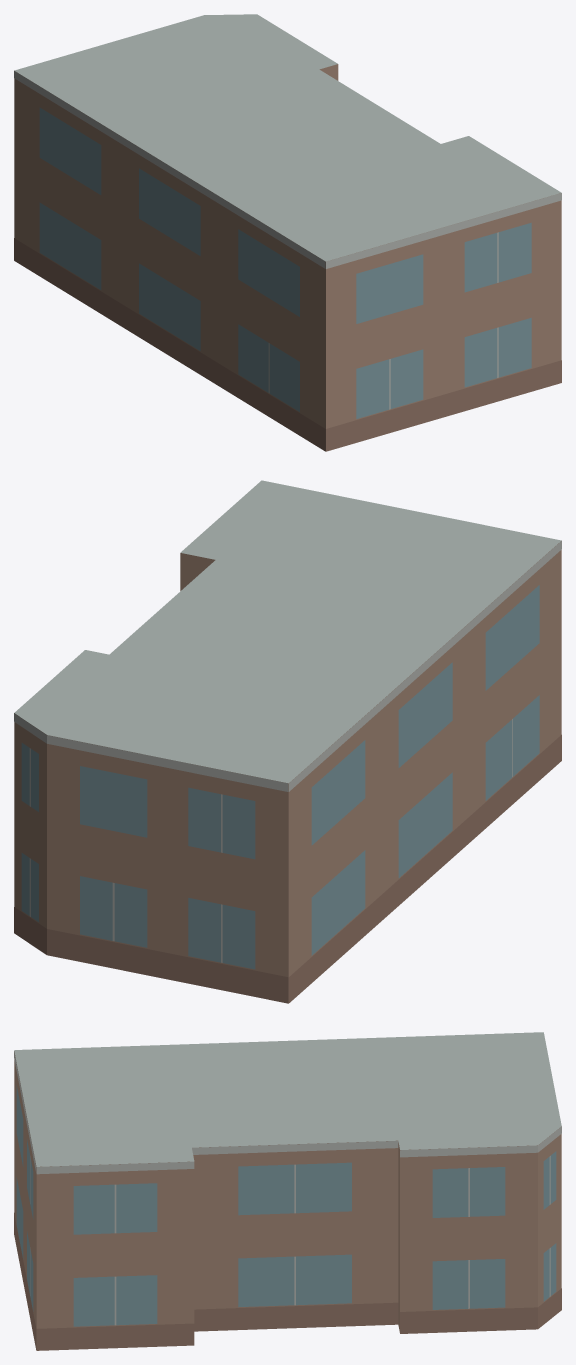
The model's file is survey-upis-32818739.glb.
The picture shows the model from 3 angles, top to bottom: view 1: azimuth 30°, elevation 25°; view 2: azimuth 150°, elevation 25°; view 3: azimuth 270°, elevation 25°; orthographic projection. The views are drawn at different scales.
Parts seen in each view (by area): view 1: survey-upis-32818739.tmp; view 2: survey-upis-32818739.tmp; view 3: survey-upis-32818739.tmp.
Boxes of the visible parts, x1,y1,x2,y2 form: survey-upis-32818739.tmp: [14, 14, 561, 451]; survey-upis-32818739.tmp: [14, 480, 561, 1003]; survey-upis-32818739.tmp: [14, 1032, 561, 1350].
Size of the model in its own units: 9.6 by 6.1 by 16.47.
